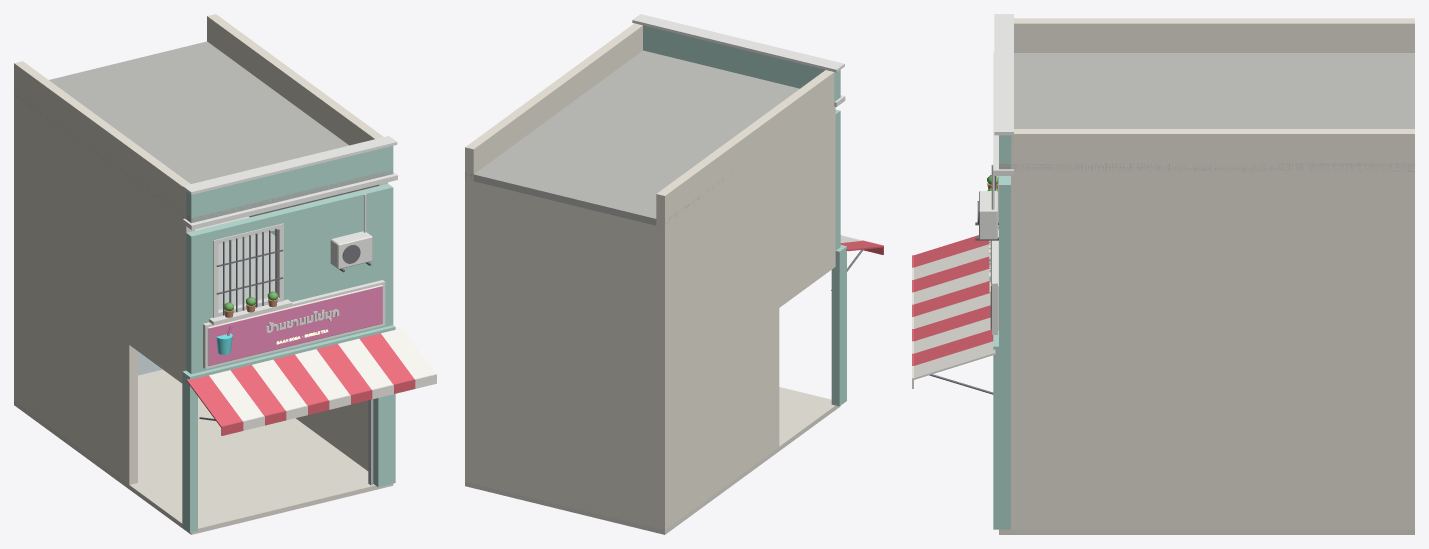
The model's file is SM_Shophouse_BobaShopOpen.fbx.
3 views of the same model, side by side, from view 1: azimuth 30°, elevation 25°; view 2: azimuth 150°, elevation 25°; view 3: azimuth 270°, elevation 25° (orthographic). The views are drawn at different scales.
Parts seen in each view (by area): view 1: SM_Shophouse_BobaShopOpen; view 2: SM_Shophouse_BobaShopOpen; view 3: SM_Shophouse_BobaShopOpen.
Part boxes in pixels (x1,y1,x2,y2): SM_Shophouse_BobaShopOpen: (14,14,436,534); SM_Shophouse_BobaShopOpen: (465,14,883,534); SM_Shophouse_BobaShopOpen: (912,14,1414,534).
Bounding box in the file's own units: 4.9 × 7.51 × 8.47.
